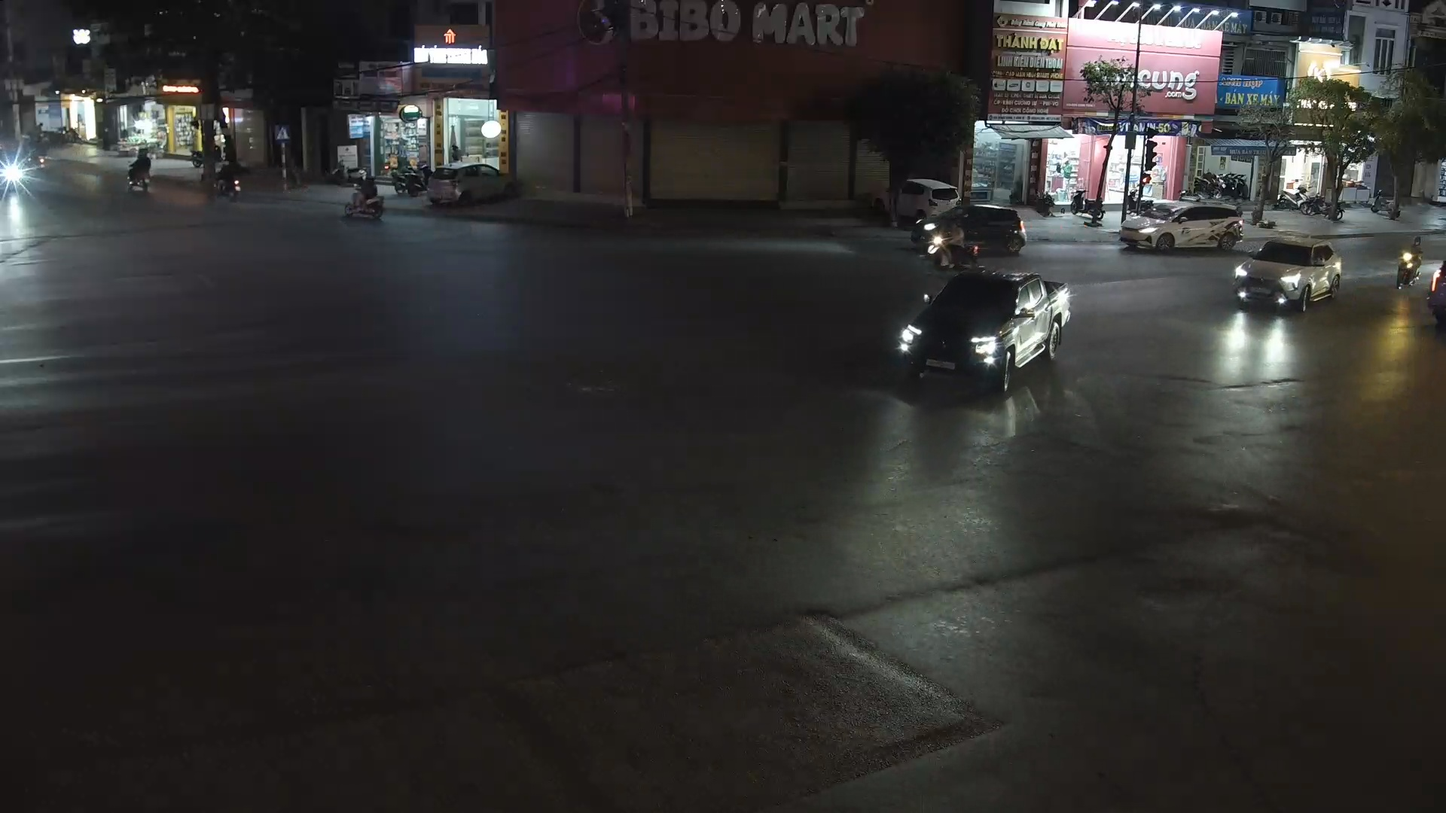car: (895, 267, 1072, 389), (1234, 231, 1344, 315), (1117, 197, 1245, 255), (922, 200, 1029, 258)
motorbike: (341, 172, 386, 224), (1394, 234, 1422, 292)
